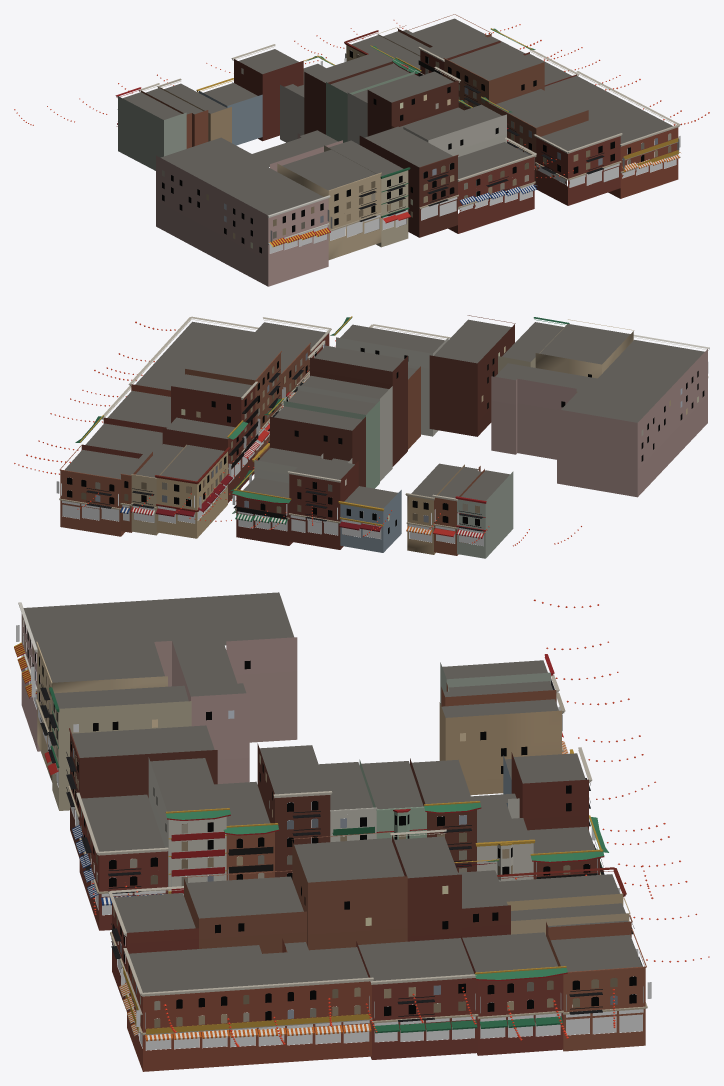
3 renders of one model, top to bottom at view 1: azimuth 30°, elevation 25°; view 2: azimuth 150°, elevation 25°; view 3: azimuth 270°, elevation 25°, orthographic. The views are drawn at different scales.
Parts seen in each view (by area): view 1: L1_roof, L1_brickred, L1_stucco, L1_d_stucco, L1_d_brickred, L1_win, L1_stone, L1_brick, L1_shopint, L1_d_fabric, L1_d_metal, L1_sign (+3 smaller); view 2: L1_roof, L1_brickred, L1_stucco, L1_d_stucco, L1_d_brickred, L1_stone, L1_win, L1_brick, L1_shopint, L1_d_fabric, L1_sign, L1_d_paint (+4 smaller); view 3: L1_roof, L1_brickred, L1_stucco, L1_brick, L1_win, L1_d_brickred, L1_stone, L1_d_paint, L1_shopint, L1_d_fabric, L1_d_stucco, L1_rooftile (+5 smaller).
Part boxes in pixels (<box>): L1_roof: <box>122,18,672,215</box>; L1_brickred: <box>192,40,678,237</box>; L1_stucco: <box>156,45,506,286</box>; L1_d_stucco: <box>118,72,428,246</box>; L1_d_brickred: <box>141,29,620,233</box>; L1_win: <box>162,50,671,253</box>; L1_stone: <box>115,14,680,244</box>; L1_brick: <box>277,163,381,259</box>; L1_shopint: <box>269,159,676,253</box>; L1_d_fabric: <box>116,126,680,247</box>; L1_d_metal: <box>117,82,604,221</box>; L1_sign: <box>232,53,680,246</box>; L1_roof: <box>64,319,704,508</box>; L1_brickred: <box>60,324,514,555</box>; L1_stucco: <box>156,337,707,558</box>; L1_d_stucco: <box>297,324,637,558</box>; L1_d_brickred: <box>81,355,484,555</box>; L1_stone: <box>59,315,709,531</box>; L1_win: <box>67,340,704,533</box>; L1_brick: <box>131,331,633,554</box>; L1_shopint: <box>62,391,483,545</box>; L1_d_fabric: <box>120,376,484,538</box>; L1_sign: <box>56,362,708,533</box>; L1_d_paint: <box>79,316,352,518</box>; L1_roof: <box>23,592,642,992</box>; L1_brickred: <box>70,733,645,1071</box>; L1_stucco: <box>21,614,533,893</box>; L1_brick: <box>37,646,561,795</box>; L1_win: <box>22,617,636,1027</box>; L1_d_brickred: <box>79,683,631,1059</box>; L1_stone: <box>18,602,647,1035</box>; L1_d_paint: <box>123,801,604,1035</box>; L1_shopint: <box>22,655,642,1050</box>; L1_d_fabric: <box>14,642,603,1041</box>; L1_d_stucco: <box>37,641,623,910</box>; L1_rooftile: <box>166,802,608,979</box>.
Bounding box in the file's own units: 154 × 30.74 × 116.
